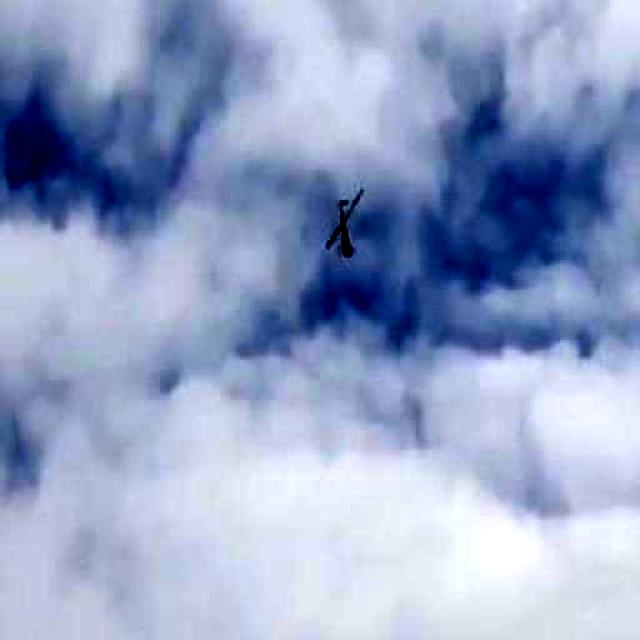drone: (294, 155, 396, 282)
